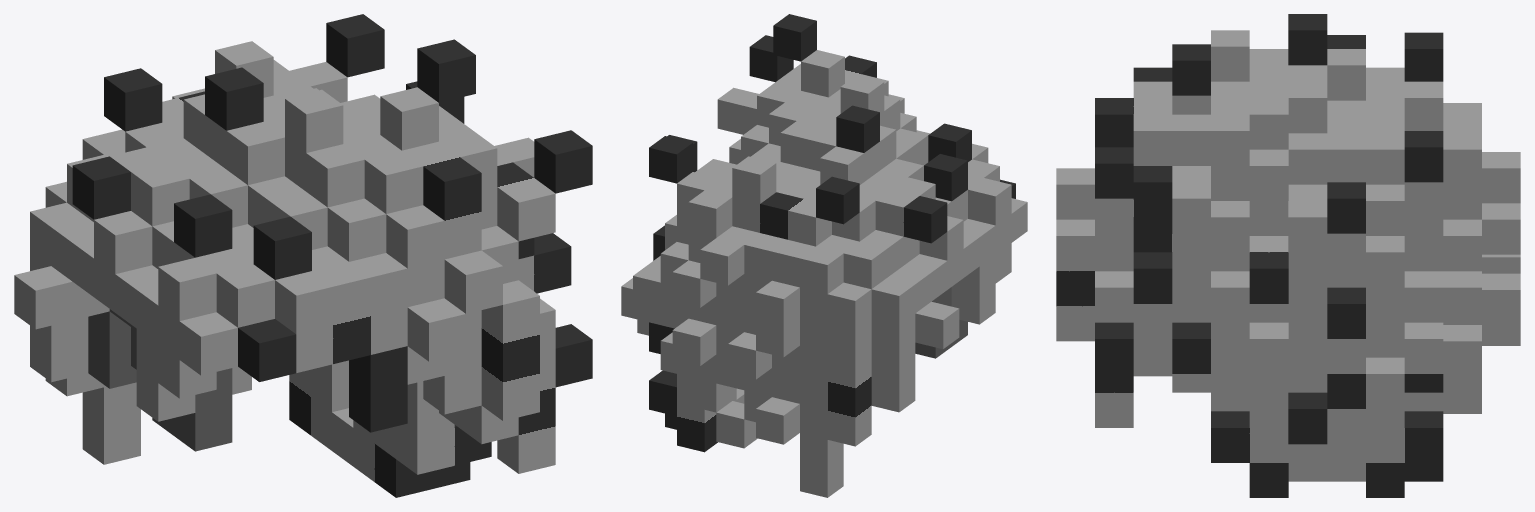
Rendered from wlosy.dae.
3 views of the same model, side by side, from view 1: azimuth 30°, elevation 25°; view 2: azimuth 150°, elevation 25°; view 3: azimuth 270°, elevation 25° (orthographic). The views are drawn at different scales.
Parts seen in each view (by area): view 1: Content; view 2: Content; view 3: Content.
Part boxes in pixels (<box>): Content: <box>14,14,592,497</box>; Content: <box>621,14,1027,497</box>; Content: <box>1056,14,1520,497</box>.
Size of the model in its own units: 11 by 12 by 12.
1 material, 1 textured.
